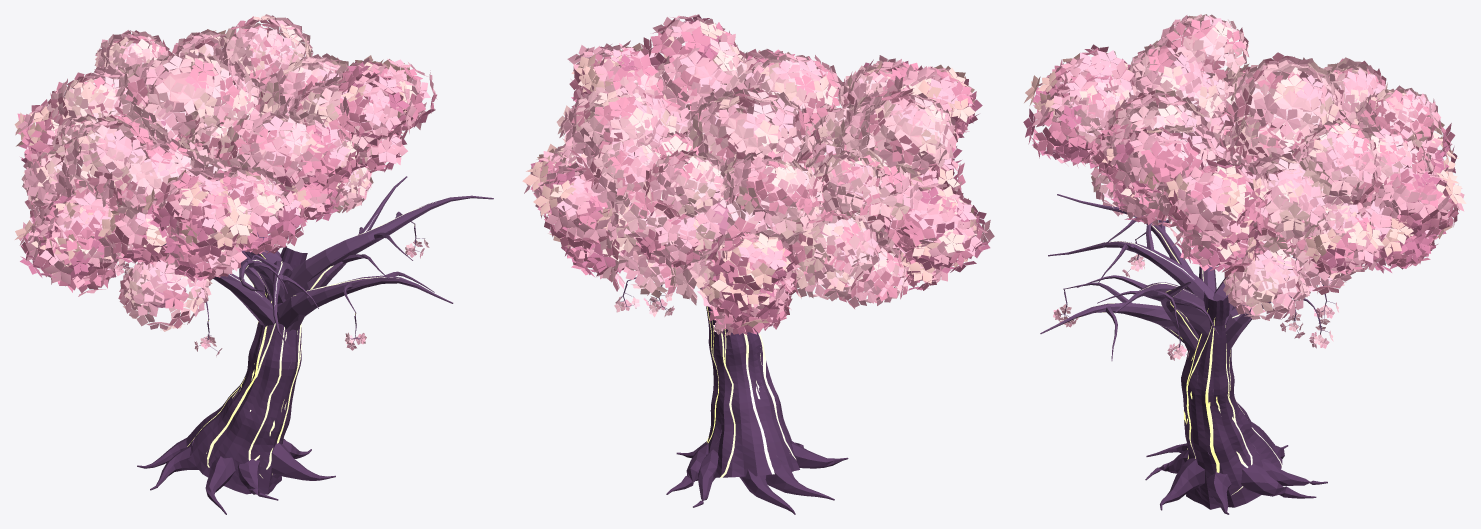
File: sakura_hero_r18a_eco.glb
The picture shows the model from 3 angles, left to right: view 1: azimuth 30°, elevation 25°; view 2: azimuth 150°, elevation 25°; view 3: azimuth 270°, elevation 25°; orthographic projection. The views are drawn at different scales.
Visible parts, largest first — view 1: R17b_outer_eco, Sakura_petal_pink, Sakura_petal_blush, Trunk_bark_plumblack, Sakura_petal_warm_rose, Branches_plum, Sakura_petal_cream, R17b_bridge_eco, R17b_skirt_eco, R18a_Surface_Gold_Inlays_eco, Canopy_peach; view 2: Sakura_petal_blush, Sakura_petal_pink, R17b_outer_eco, Sakura_petal_warm_rose, Trunk_bark_plumblack, Sakura_petal_cream, R17b_bridge_eco, R17b_skirt_eco, R18a_Surface_Gold_Inlays_eco, Canopy_peach; view 3: R17b_outer_eco, Sakura_petal_pink, Sakura_petal_blush, Trunk_bark_plumblack, Sakura_petal_warm_rose, Branches_plum, Sakura_petal_cream, R17b_bridge_eco, R17b_skirt_eco, R18a_Surface_Gold_Inlays_eco, Canopy_peach.
Boxes of the visible parts, x1,y1,x2,y2 form: R17b_outer_eco: (14, 29, 437, 284); Sakura_petal_pink: (24, 17, 424, 356); Sakura_petal_blush: (21, 14, 429, 351); Trunk_bark_plumblack: (137, 219, 409, 514); Sakura_petal_warm_rose: (25, 15, 390, 328); Branches_plum: (121, 176, 493, 445); Sakura_petal_cream: (29, 15, 373, 331); R17b_bridge_eco: (38, 55, 414, 265); R17b_skirt_eco: (43, 132, 407, 296); R18a_Surface_Gold_Inlays_eco: (187, 202, 435, 477); Canopy_peach: (82, 54, 354, 195); Sakura_petal_blush: (551, 38, 958, 336); Sakura_petal_pink: (548, 39, 959, 335); R17b_outer_eco: (522, 14, 994, 327); Sakura_petal_warm_rose: (564, 41, 959, 308); Trunk_bark_plumblack: (666, 306, 848, 514); Sakura_petal_cream: (548, 44, 960, 298); R17b_bridge_eco: (547, 40, 965, 318); R17b_skirt_eco: (561, 125, 962, 335); R18a_Surface_Gold_Inlays_eco: (707, 306, 796, 477); Canopy_peach: (610, 64, 933, 282); R17b_outer_eco: (1023, 44, 1466, 274); Sakura_petal_pink: (1051, 15, 1440, 360); Sakura_petal_blush: (1055, 14, 1433, 359); Trunk_bark_plumblack: (1145, 291, 1327, 514); Sakura_petal_warm_rose: (1070, 19, 1438, 319); Branches_plum: (1040, 194, 1326, 455); Sakura_petal_cream: (1052, 14, 1436, 315); R17b_bridge_eco: (1050, 70, 1442, 261); R17b_skirt_eco: (1056, 137, 1438, 277); R18a_Surface_Gold_Inlays_eco: (1081, 206, 1295, 495); Canopy_peach: (1090, 32, 1413, 302).
Size of the model in its own units: 27.56 by 25.89 by 25.17.
